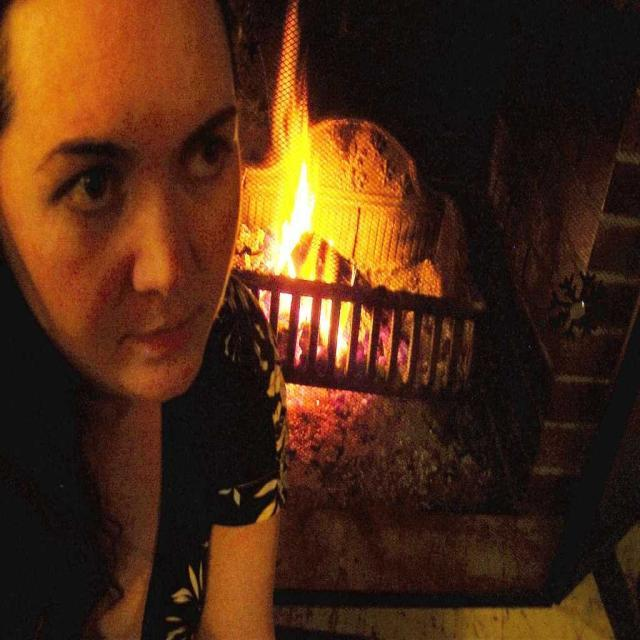Fire: (266, 172, 318, 272)
